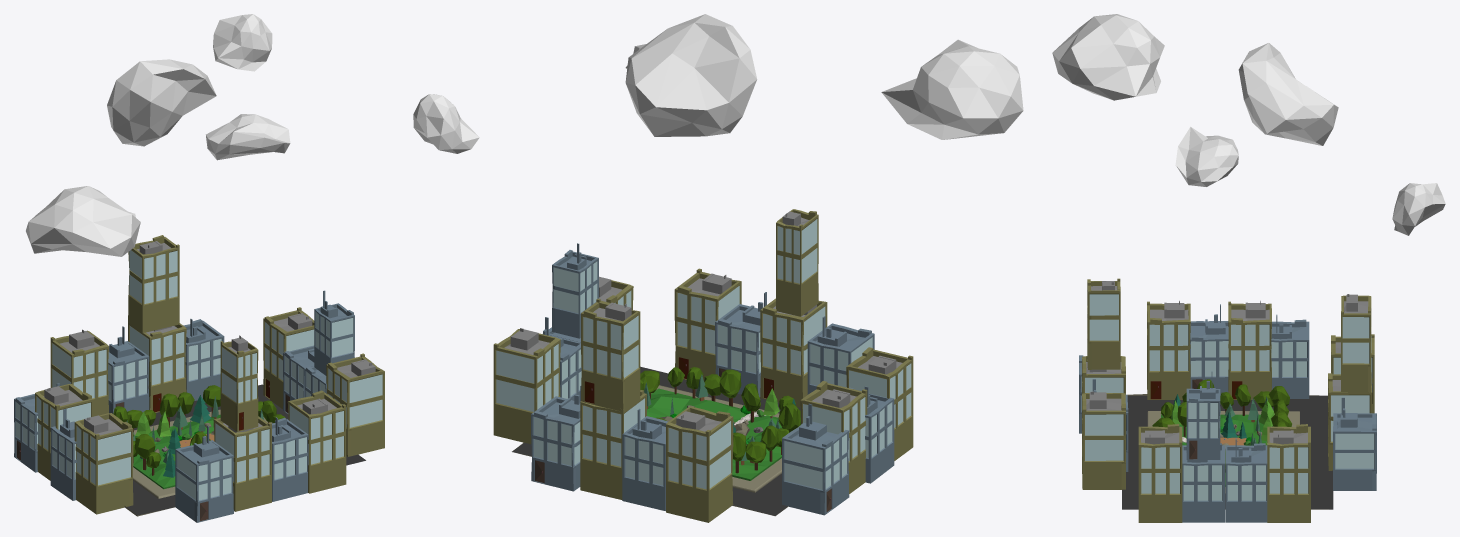
File: Reflective_Space_Carlosv2.0.fbx
3 views of the same model, side by side, from view 1: azimuth 30°, elevation 25°; view 2: azimuth 150°, elevation 25°; view 3: azimuth 270°, elevation 25° (orthographic). The views are drawn at different scales.
Parts seen in each view (by area): view 1: Icosphere.003, Icosphere.002, Building_1.002, Building_1.018, Building_1.015, Building_1.010, Building_1.011, S.Building_01, Building_1.007, S.Building_02, Building_1.017, Building_1.004 (+14 smaller); view 2: Icosphere.003, Icosphere.002, Building_1.007, Building_1.018, Building_1.004, Building_1, Building_1.011, S.Building_01, Building_1.017, Building_1.006, S.Building_02, Building_1.002 (+11 smaller); view 3: Icosphere.002, Icosphere.003, Plane, Building_1.015, Building_1.011, Building_1.004, Building_1.002, Building_1.009, Building_1.006, Building_1.003, S.Building_02, Building_1.018 (+10 smaller).
Boxes of the visible parts, x1,y1,x2,y2 form: Icosphere.003: (107,59,216,146); Icosphere.002: (26,186,140,256); Building_1.002: (74,413,133,514); Building_1.018: (128,235,179,333); Building_1.015: (326,353,384,456); Building_1.010: (175,425,233,522); Building_1.011: (287,390,346,493); S.Building_01: (213,416,271,511); Building_1.007: (50,329,108,416); S.Building_02: (220,335,258,431); Building_1.017: (128,323,186,412); Building_1.004: (263,307,314,409); Icosphere.003: (625,14,757,136); Icosphere.002: (881,39,1023,139); Building_1.007: (666,406,733,522); Building_1.018: (581,298,640,411); Building_1.004: (493,328,560,444); Building_1: (782,403,849,515); Building_1.011: (674,268,741,381); S.Building_01: (760,298,827,407); Building_1.017: (580,390,646,499); Building_1.006: (531,385,581,491); S.Building_02: (776,209,818,316); Building_1.002: (846,347,913,460); Icosphere.002: (1052,14,1164,100); Icosphere.003: (1238,43,1338,145); Plane: (1122,394,1333,509); Building_1.015: (1138,424,1182,522); Building_1.011: (1082,391,1125,489); Building_1.004: (1267,424,1310,522); Building_1.002: (1147,300,1190,399); Building_1.009: (1228,300,1271,399); Building_1.006: (1333,397,1376,490); Building_1.003: (1225,438,1267,522); S.Building_02: (1087,278,1120,369); Building_1.018: (1341,294,1371,392).
Size of the model in its own units: 49117 by 47662 by 42734.
Materials: 34 (3 with a texture image).
